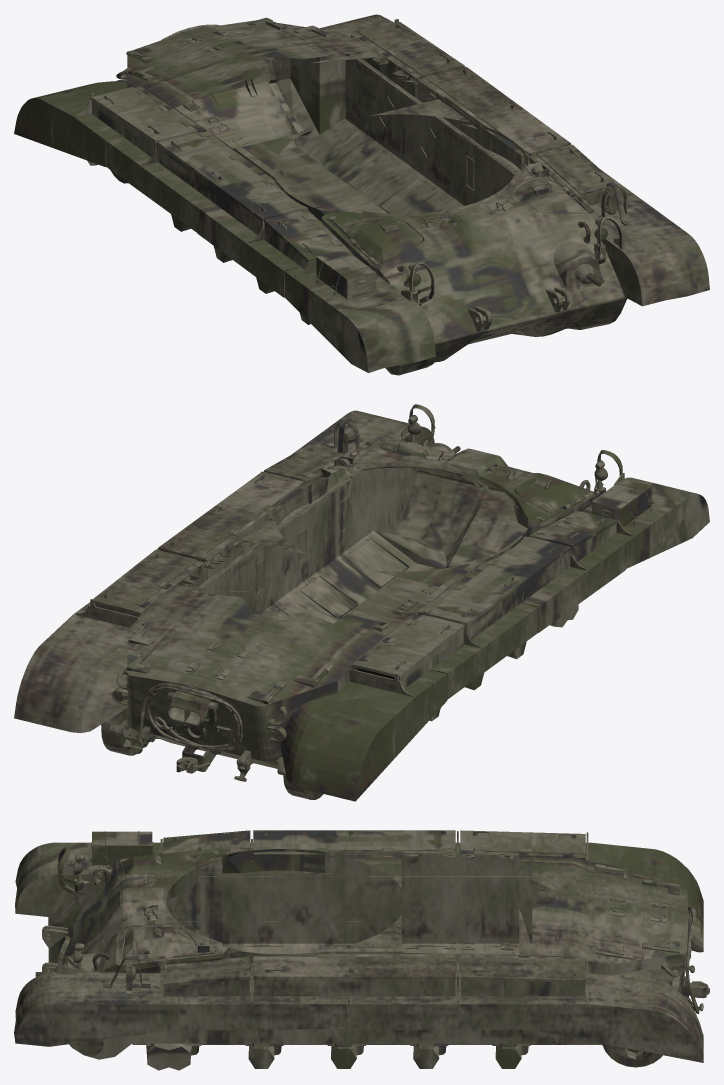
The model's file is pershing_hull_m3.obj.
3 renders of one model, top to bottom at view 1: azimuth 30°, elevation 25°; view 2: azimuth 150°, elevation 25°; view 3: azimuth 270°, elevation 25°, orthographic. The views are drawn at different scales.
Visible parts, largest first — view 1: pershing_hull_m3; view 2: pershing_hull_m3; view 3: pershing_hull_m3.
Boxes of the visible parts, box(x1,y1,x2,y2) form: pershing_hull_m3: box(14, 14, 709, 375); pershing_hull_m3: box(14, 404, 709, 801); pershing_hull_m3: box(14, 830, 709, 1070).
Size of the model in its own units: 3.39 by 1.26 by 6.14.
Materials: 1 (1 with a texture image).
